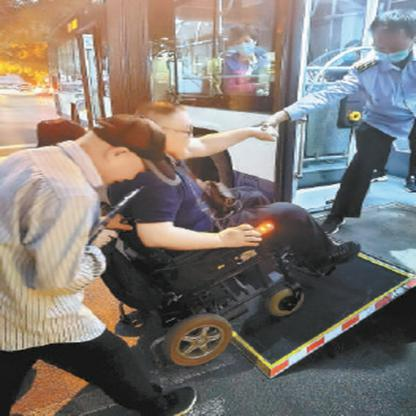wheelchair: (80, 98, 360, 366)
